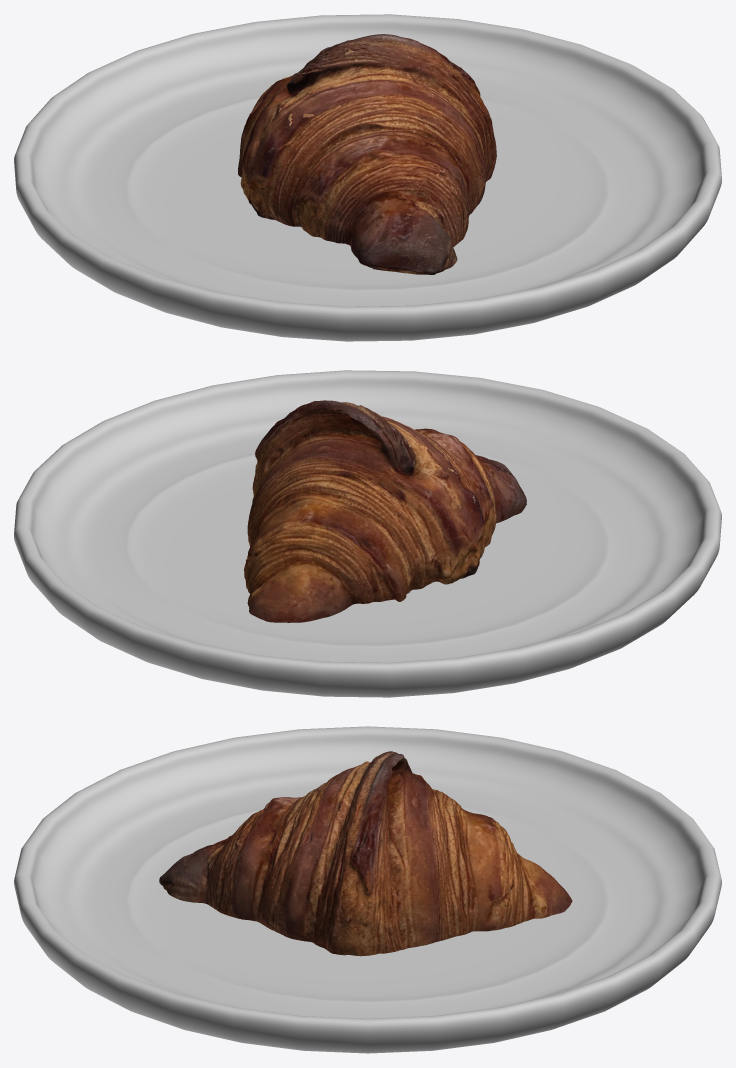
The model's file is croissant.fbx.
3 renders of one model, top to bottom at view 1: azimuth 30°, elevation 25°; view 2: azimuth 150°, elevation 25°; view 3: azimuth 270°, elevation 25°, orthographic.
Parts seen in each view (by area): view 1: Croissant pastrie; view 2: Croissant pastrie; view 3: Croissant pastrie.
Boxes of the visible parts, x1=… form: Croissant pastrie: x1=14, y1=14, x2=721, y2=341; Croissant pastrie: x1=14, y1=370, x2=721, y2=697; Croissant pastrie: x1=14, y1=726, x2=721, y2=1053.
Bounding box in the file's own units: 18.62 × 5.09 × 18.62.
2 materials, 1 textured.
